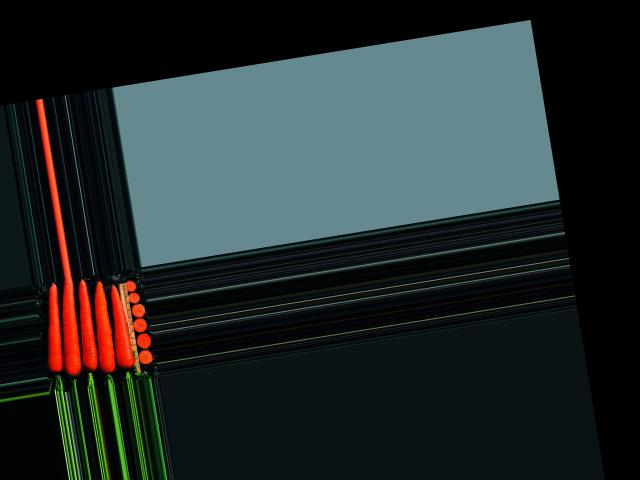carrot: (104, 278, 140, 377)
